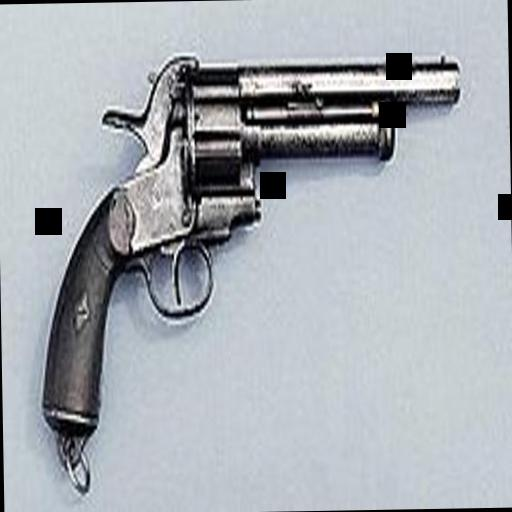Handgun: (27, 46, 466, 436)
